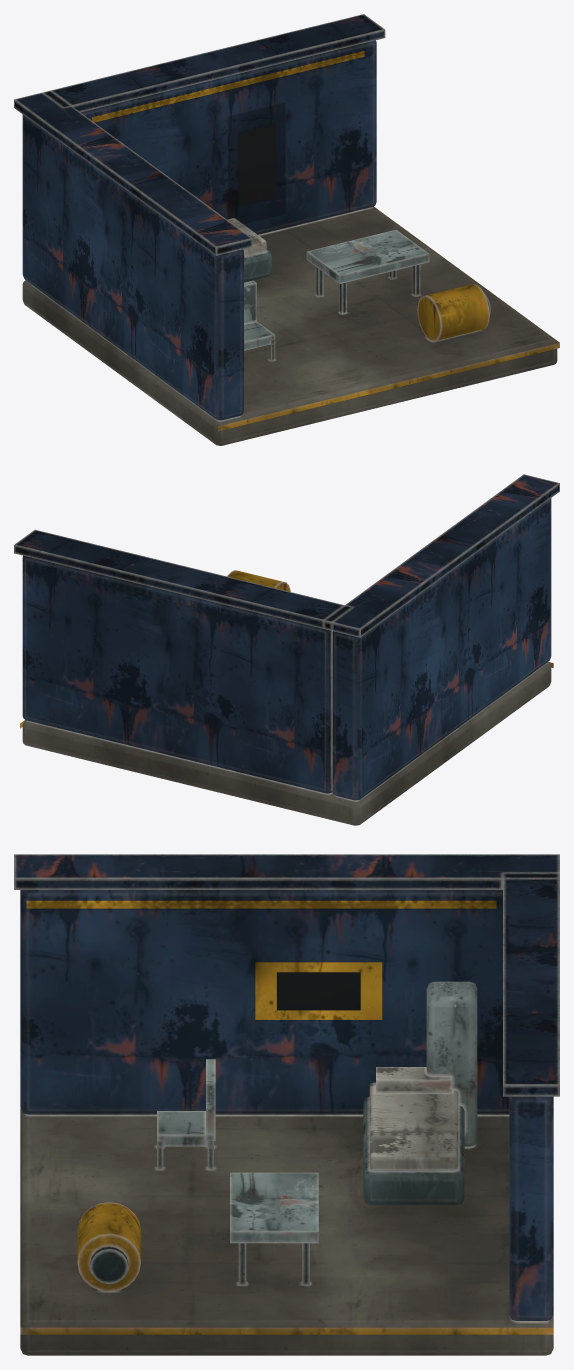
Rendered from habitat.glb.
3 renders of one model, top to bottom at view 1: azimuth 30°, elevation 25°; view 2: azimuth 150°, elevation 25°; view 3: azimuth 270°, elevation 25°, orthographic. The views are drawn at different scales.
Visible parts, largest first — view 1: te_habitat; view 2: te_habitat; view 3: te_habitat.
Part boxes in pixels (box(x1,y1,x2,y2)): te_habitat: box(14, 14, 559, 445); te_habitat: box(14, 474, 559, 825); te_habitat: box(14, 854, 559, 1355).
Size of the model in its own units: 0.86 by 0.48 by 0.86.
Materials: 1 (1 with a texture image).
